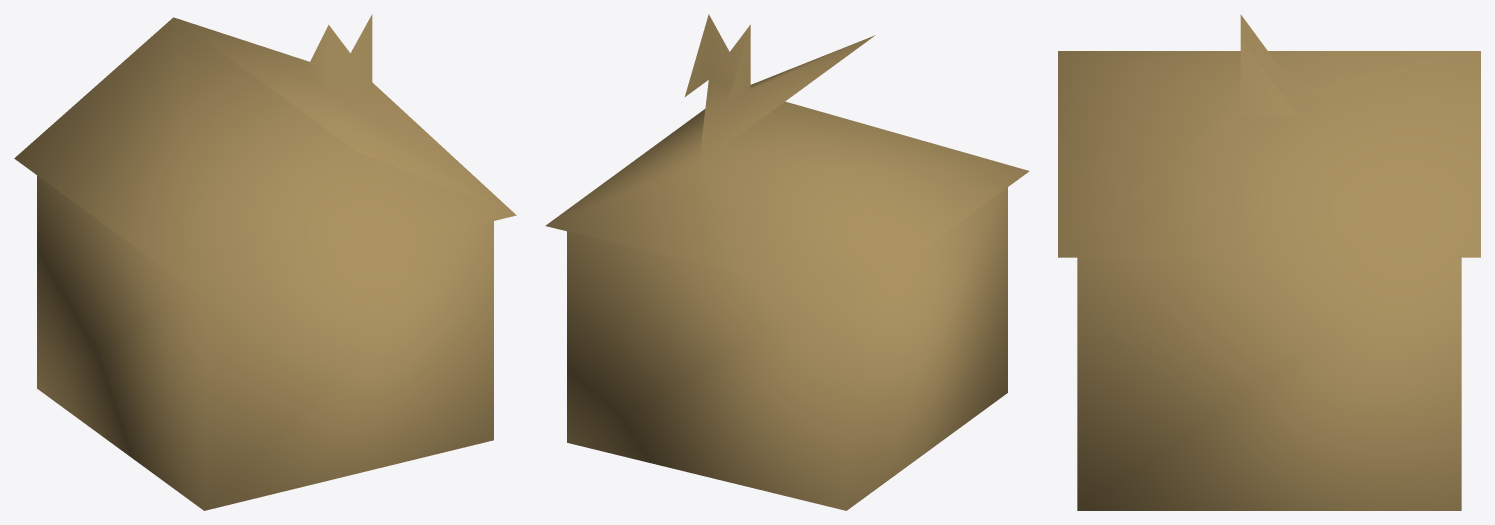
The model's file is oil_press.obj.
3 renders of one model, left to right at view 1: azimuth 30°, elevation 25°; view 2: azimuth 150°, elevation 25°; view 3: azimuth 270°, elevation 25°, orthographic. The views are drawn at different scales.
Parts seen in each view (by area): view 1: building; view 2: building; view 3: building.
Part boxes in pixels (x1,y1,x2,y2): building: (14,14,516,510); building: (545,14,1029,510); building: (1058,14,1480,510).
Size of the model in its own units: 2.2 by 2.55 by 2.2.
